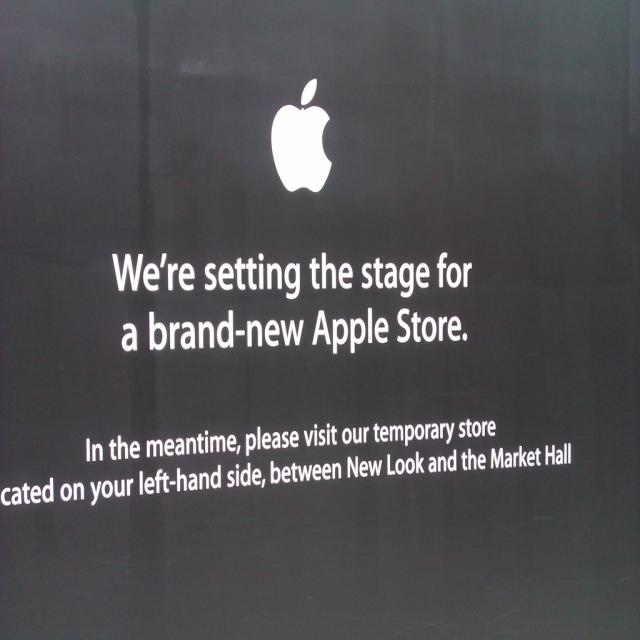Healty Apple: (271, 77, 331, 192)
